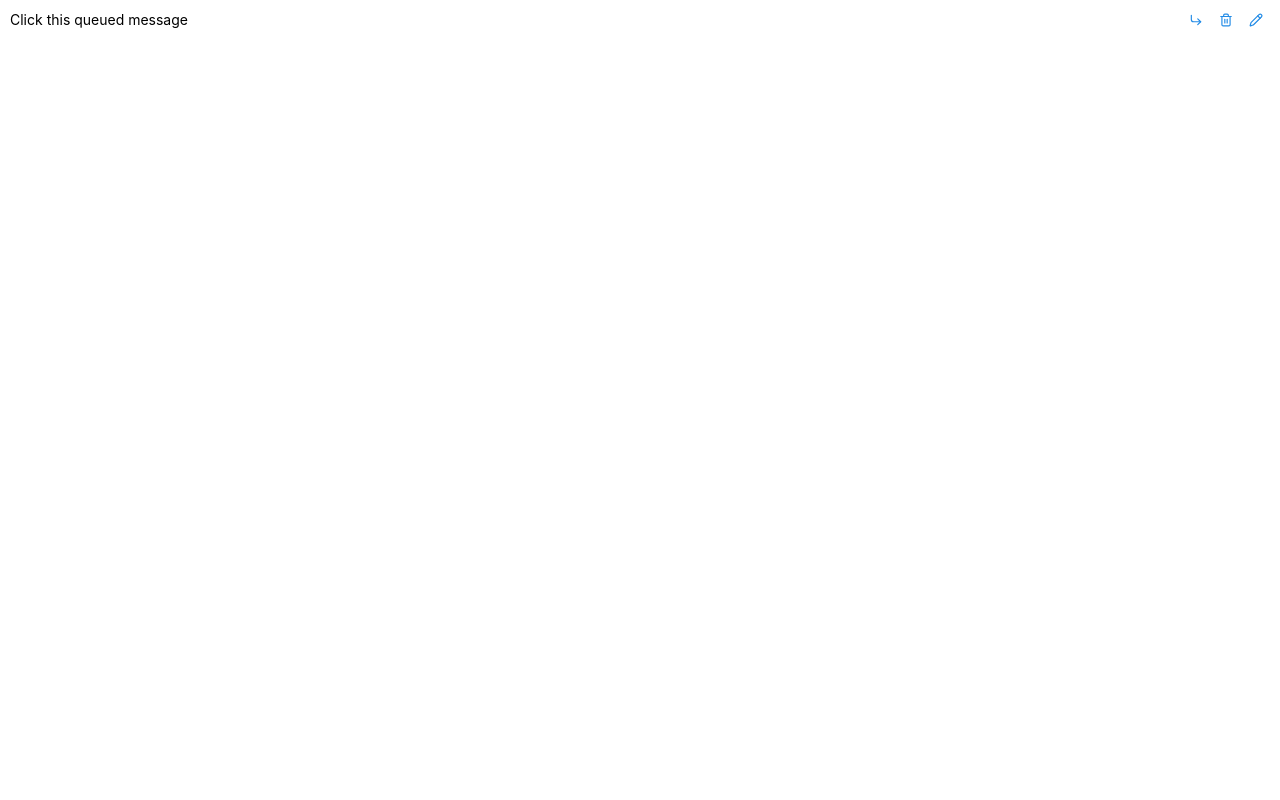
Test: opens the queued message editor when its preview text is clicked
Click the button "Click this queued message".
click(99, 20)  # box x1=10 y1=9 x2=1178 y2=31
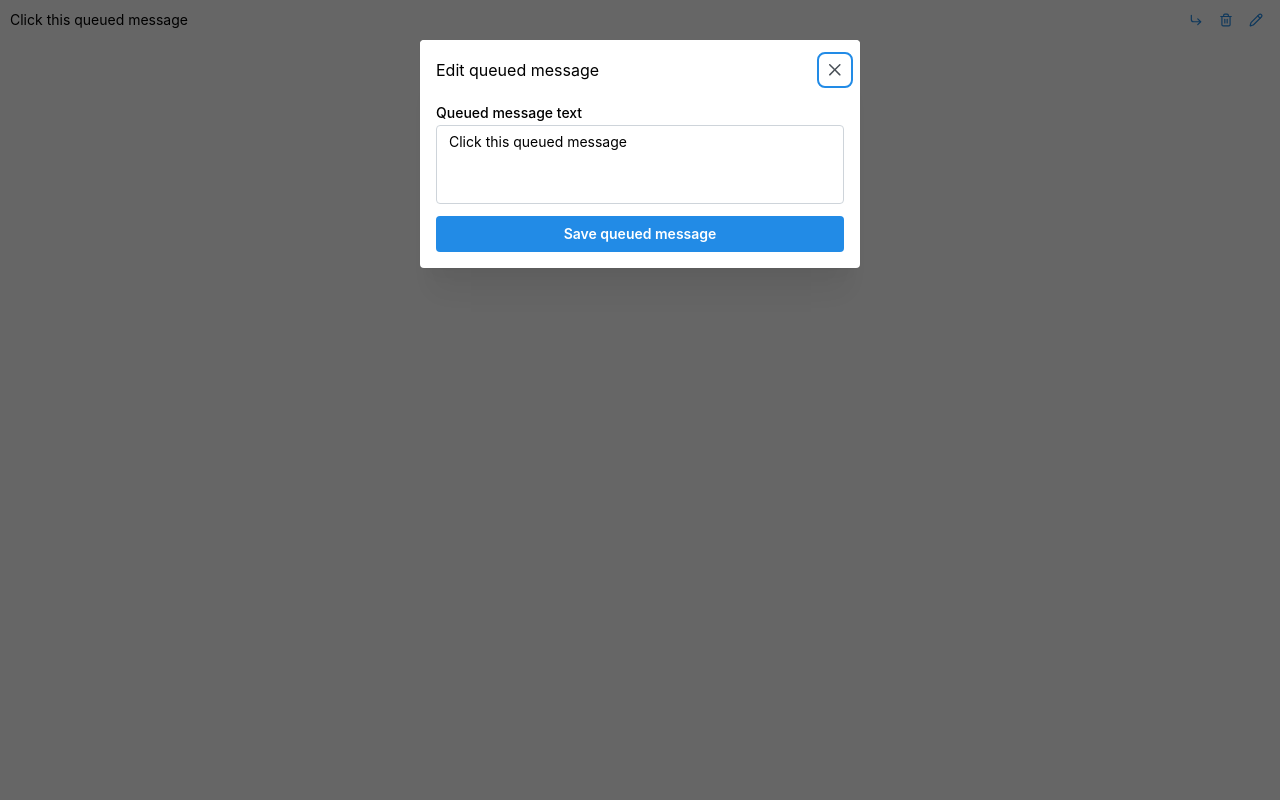
Check: the dialog "Edit queued message" is shown, box x1=420 y1=40 x2=860 y2=268
Check: the text box labelled "Queued message text" holds "Click this queued message", box x1=436 y1=125 x2=844 y2=204
